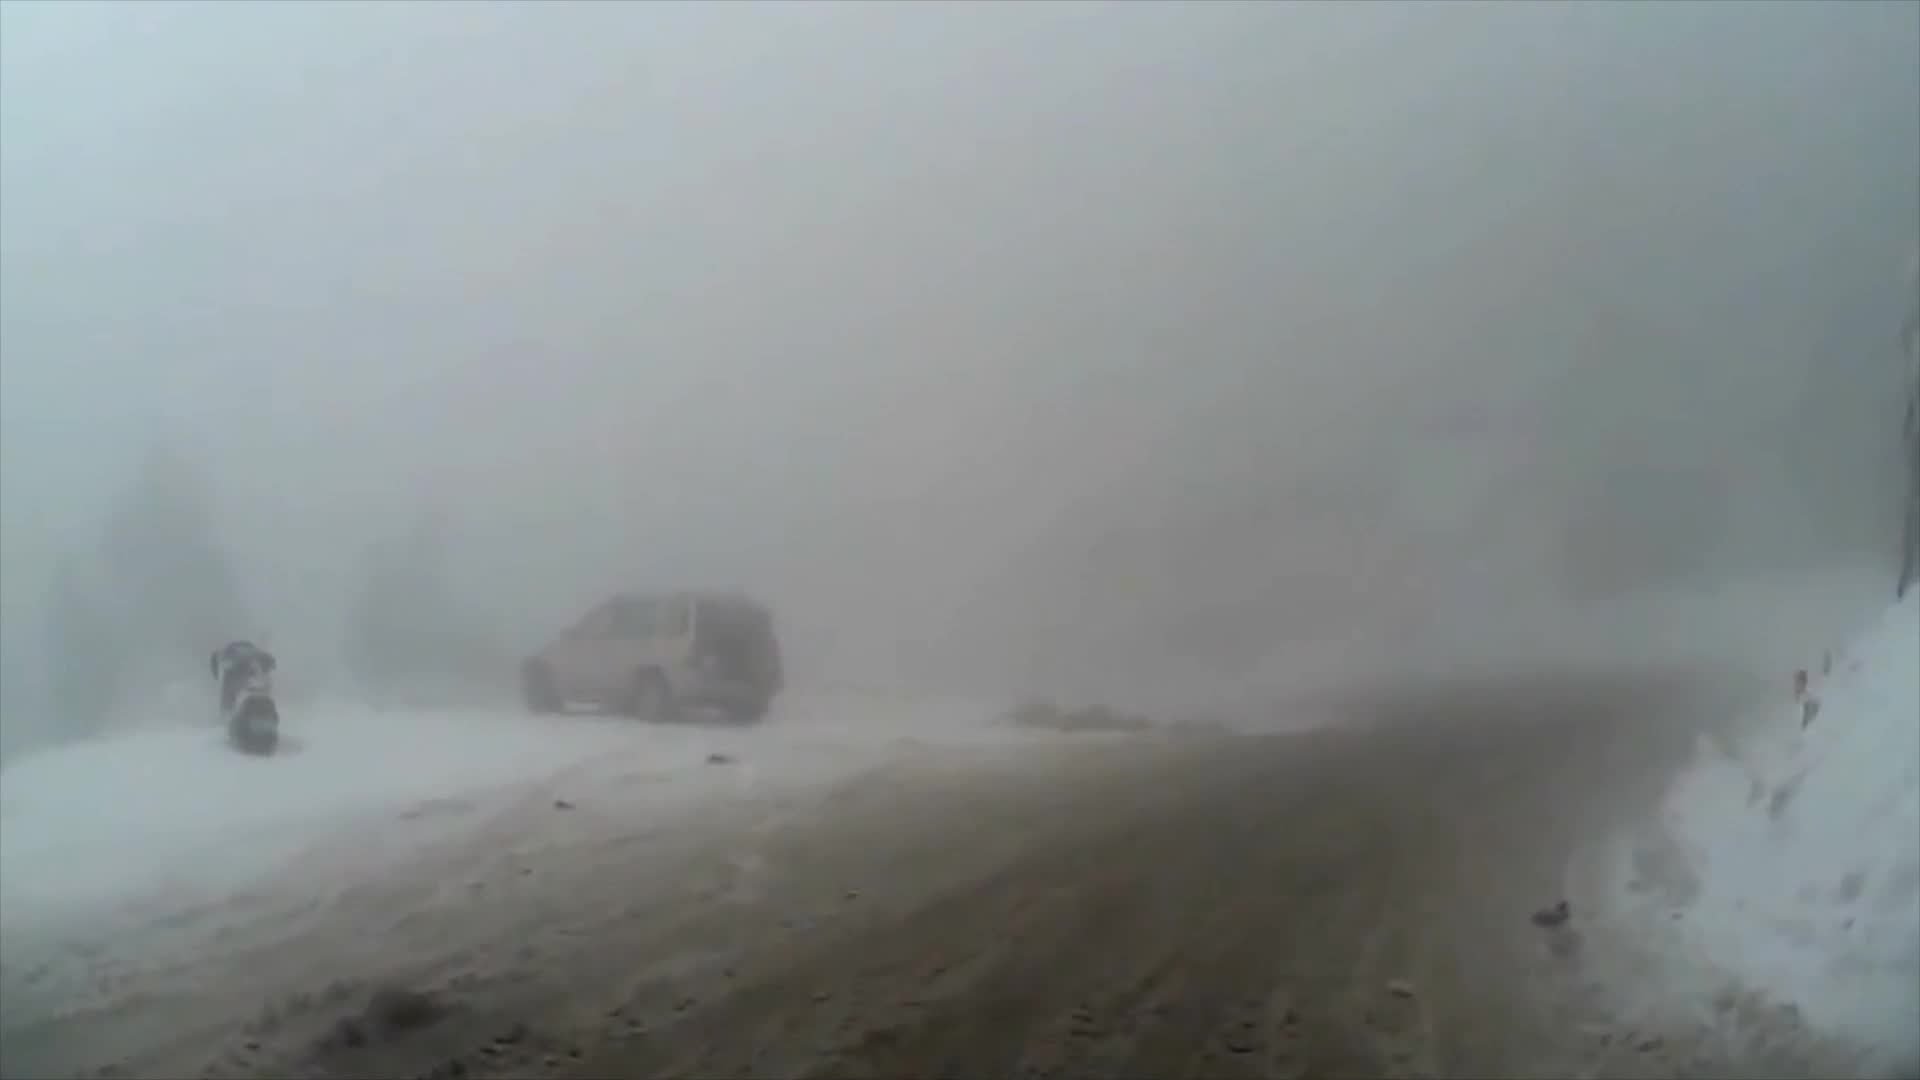vehicle: (516, 589, 783, 727)
